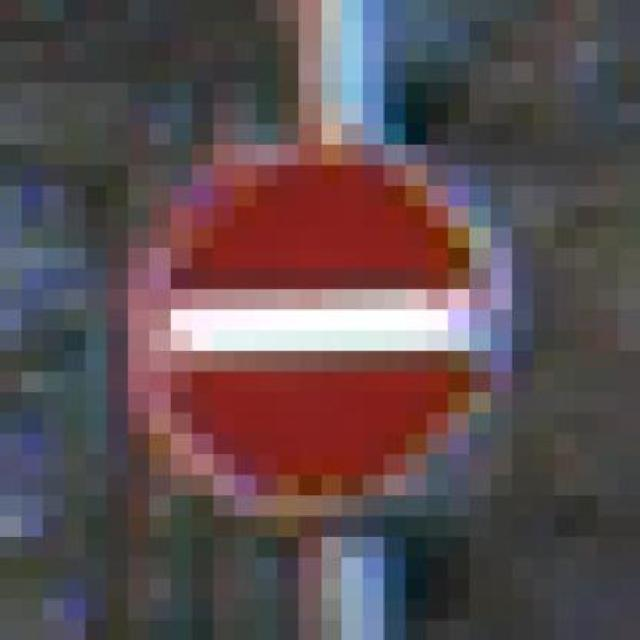No Entry: (64, 83, 511, 537)
